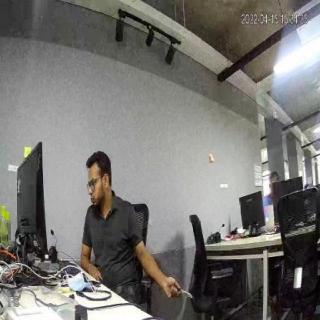knife: (173, 287, 193, 304)
